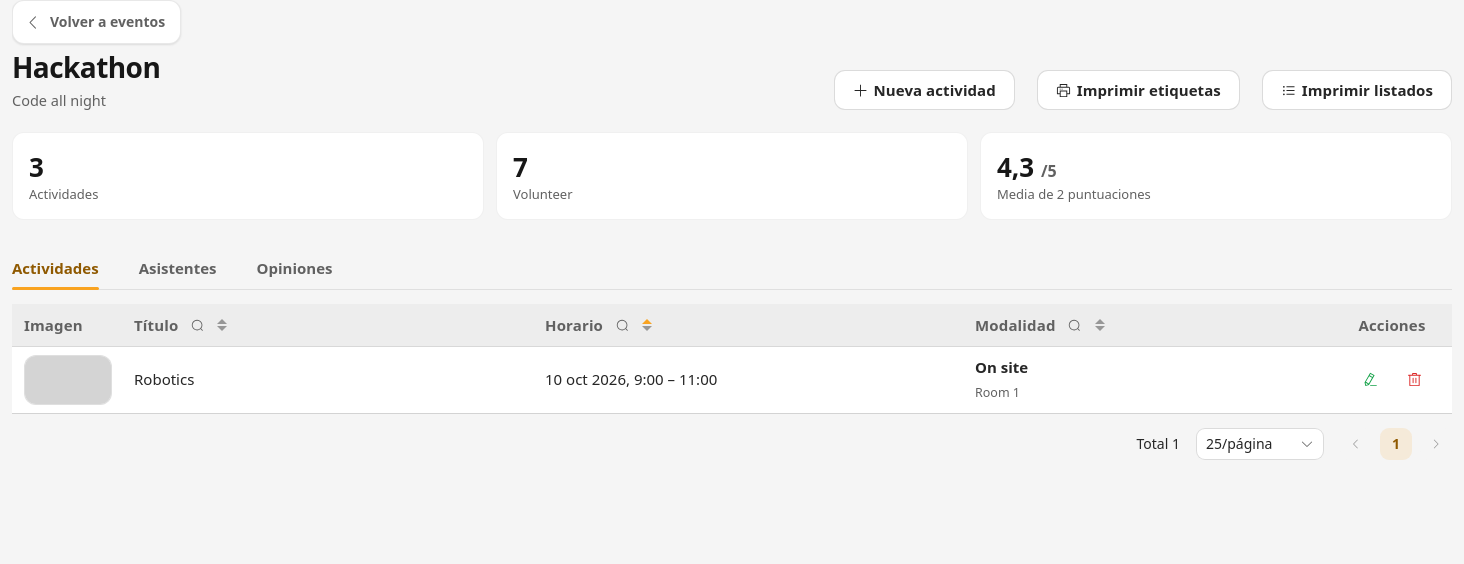
Scenario: EventDetailPage › loads attendees and opinions only when their tabs are opened
Click the tab with id "tab-attendees" at (178, 268), box 139,258 -> 216,278
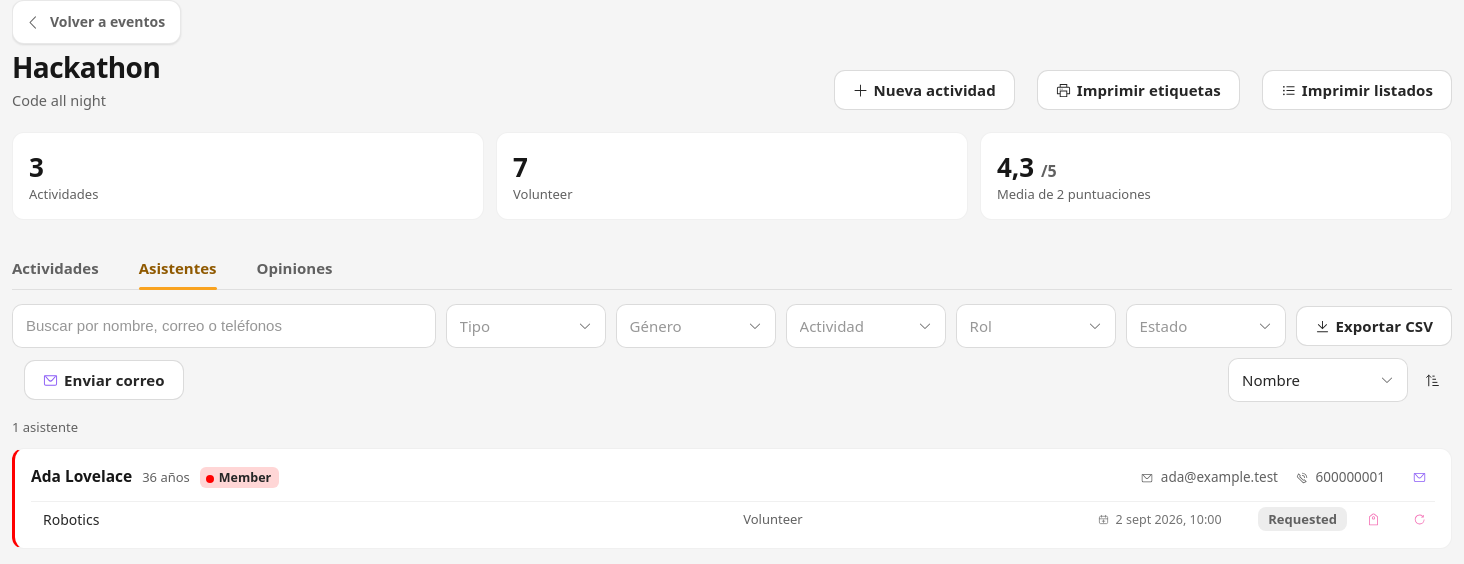
Check: the text "Ada Lovelace" is shown, box 31,465 -> 132,487
Click the tab with id "tab-opinions" at (294, 268), box 256,258 -> 332,278
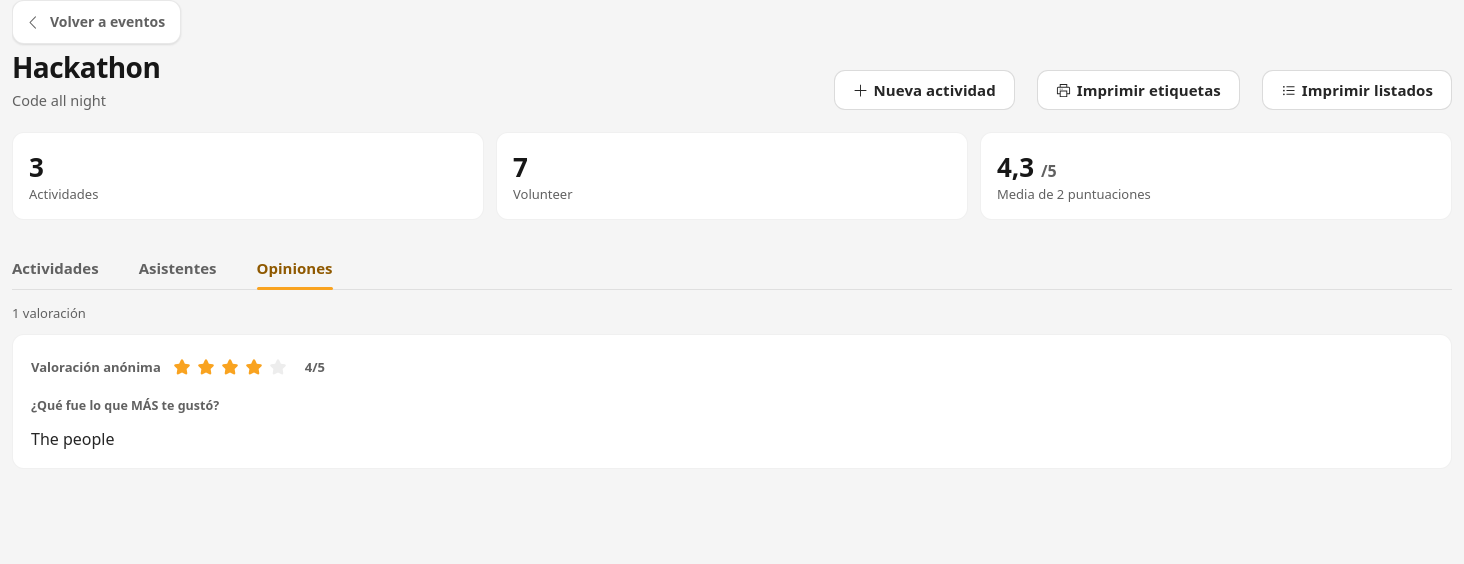
Check: the text "Valoración anónima" is shown, box 31,358 -> 161,376
